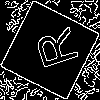R: (25, 25, 80, 74)
